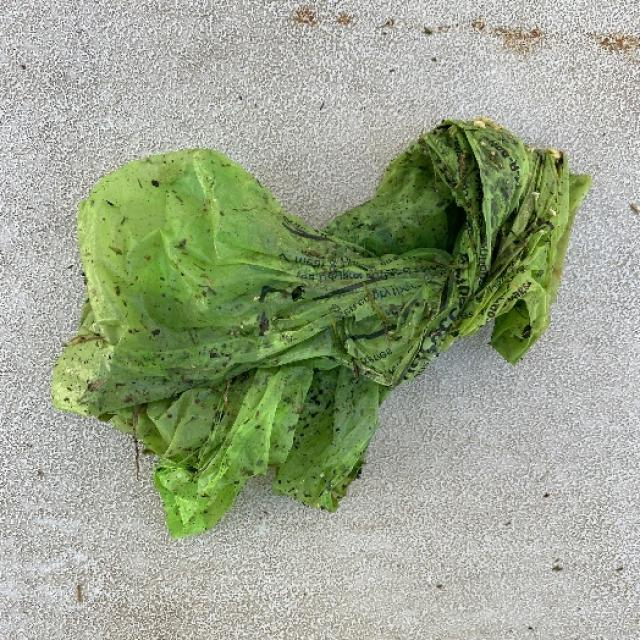organik: (84, 127, 584, 521)
